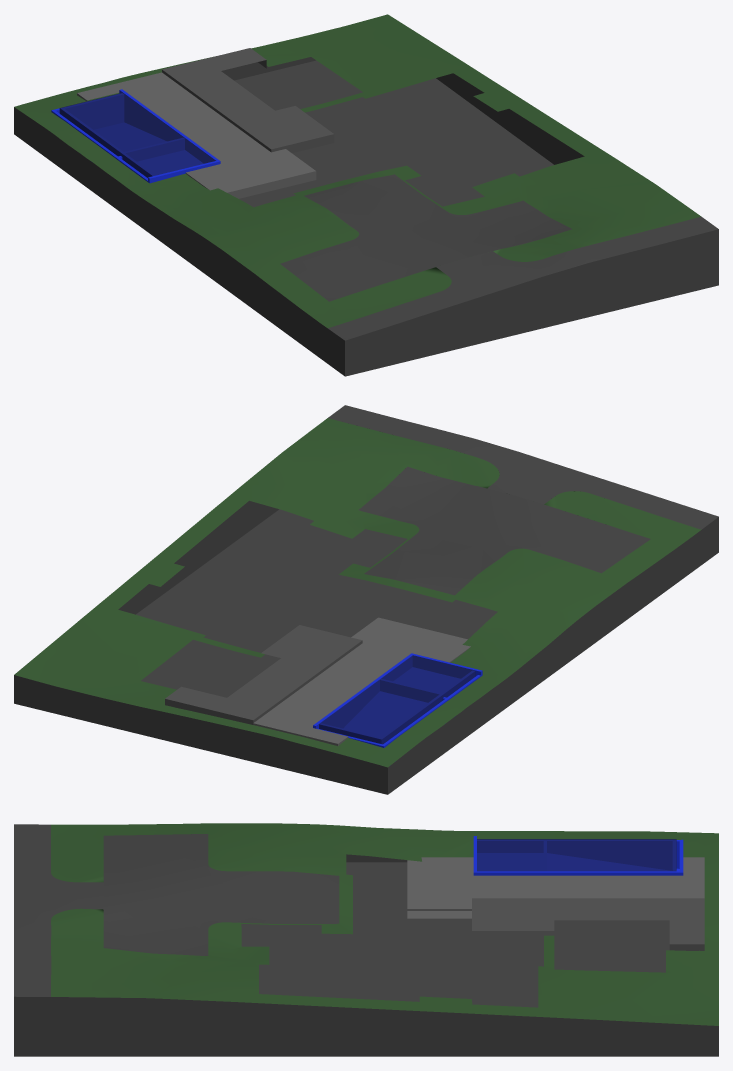
File: site simple.glb
3 views of the same model, one above another, from view 1: azimuth 30°, elevation 25°; view 2: azimuth 150°, elevation 25°; view 3: azimuth 270°, elevation 25° (orthographic). The views are drawn at different scales.
Visible parts, largest first — view 1: Base, site.green, main Driveway, main Paving.001, main Road, main Pool, main Ceramic.005, water.001; view 2: Base, site.green, main Driveway, main Road, main Paving.001, main Pool, main Ceramic.005, water.001; view 3: Base, site.green, main Driveway, main Paving.001, main Road, main Pool, main Ceramic.005, water.001.
Boxes of the visible parts, left/top/right/bottom form: Base: left=14, top=57, right=718, bottom=376; site.green: left=14, top=14, right=700, bottom=328; main Driveway: left=280, top=174, right=571, bottom=301; main Paving.001: left=77, top=72, right=316, bottom=198; main Road: left=328, top=216, right=718, bottom=340; main Pool: left=51, top=89, right=220, bottom=183; main Ceramic.005: left=162, top=48, right=334, bottom=153; water.001: left=59, top=92, right=215, bottom=177; Base: left=14, top=474, right=718, bottom=794; site.green: left=14, top=418, right=701, bottom=767; main Driveway: left=358, top=466, right=650, bottom=595; main Road: left=328, top=405, right=718, bottom=529; main Paving.001: left=253, top=617, right=470, bottom=745; main Pool: left=313, top=653, right=482, bottom=747; main Ceramic.005: left=165, top=625, right=362, bottom=724; water.001: left=319, top=656, right=475, bottom=744; Base: left=14, top=823, right=718, bottom=1056; site.green: left=51, top=823, right=718, bottom=1025; main Driveway: left=103, top=834, right=339, bottom=955; main Paving.001: left=407, top=857, right=704, bottom=918; main Road: left=14, top=824, right=103, bottom=996; main Pool: left=473, top=836, right=683, bottom=875; main Ceramic.005: left=472, top=898, right=704, bottom=950; water.001: left=477, top=839, right=676, bottom=871.
Size of the model in its own units: 26.31 by 3.78 by 40.36.
